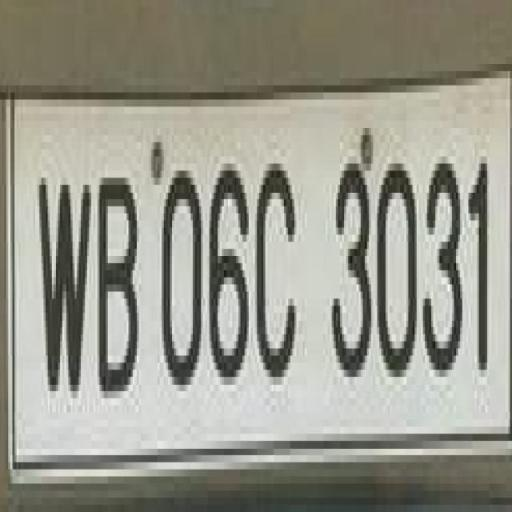number plate: (18, 57, 512, 490)
